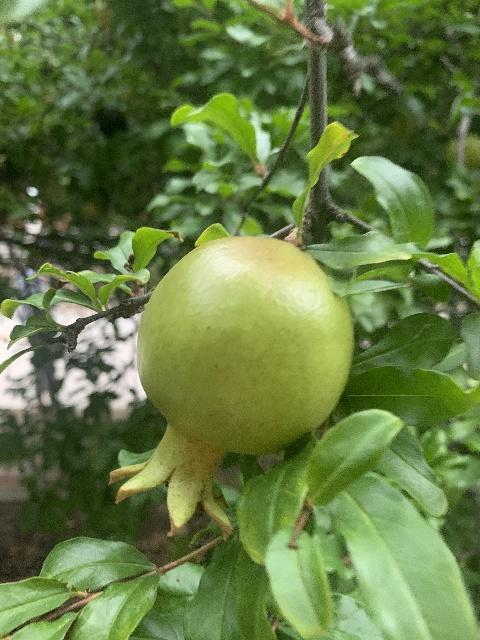mid-growth: (106, 234, 354, 538)
